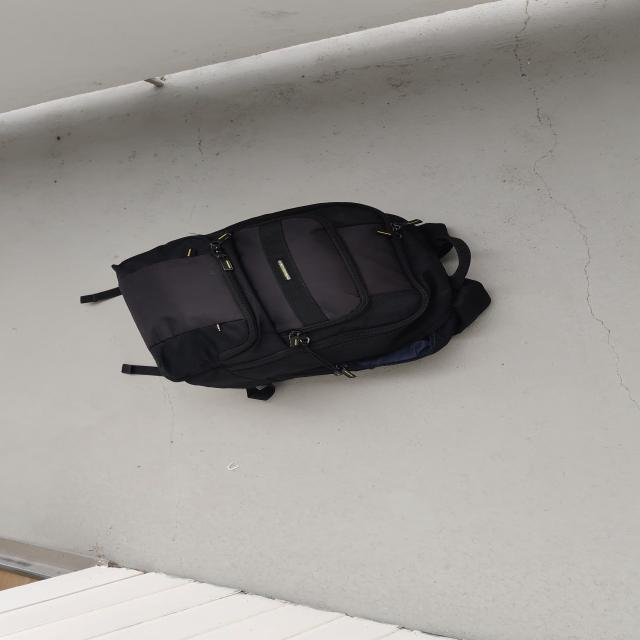backpack: (104, 196, 500, 398)
